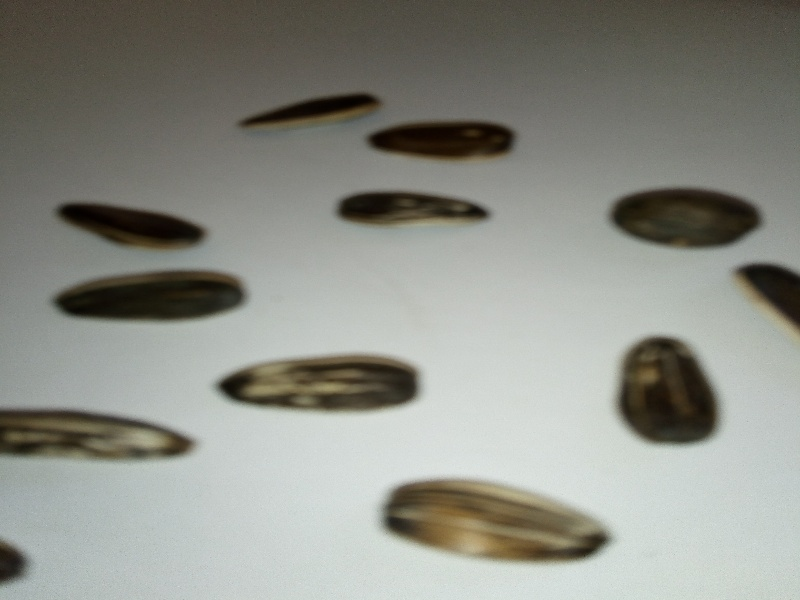girasol: (367, 473, 627, 567), (207, 344, 429, 420), (614, 326, 725, 458), (49, 261, 256, 330), (326, 185, 495, 230)
